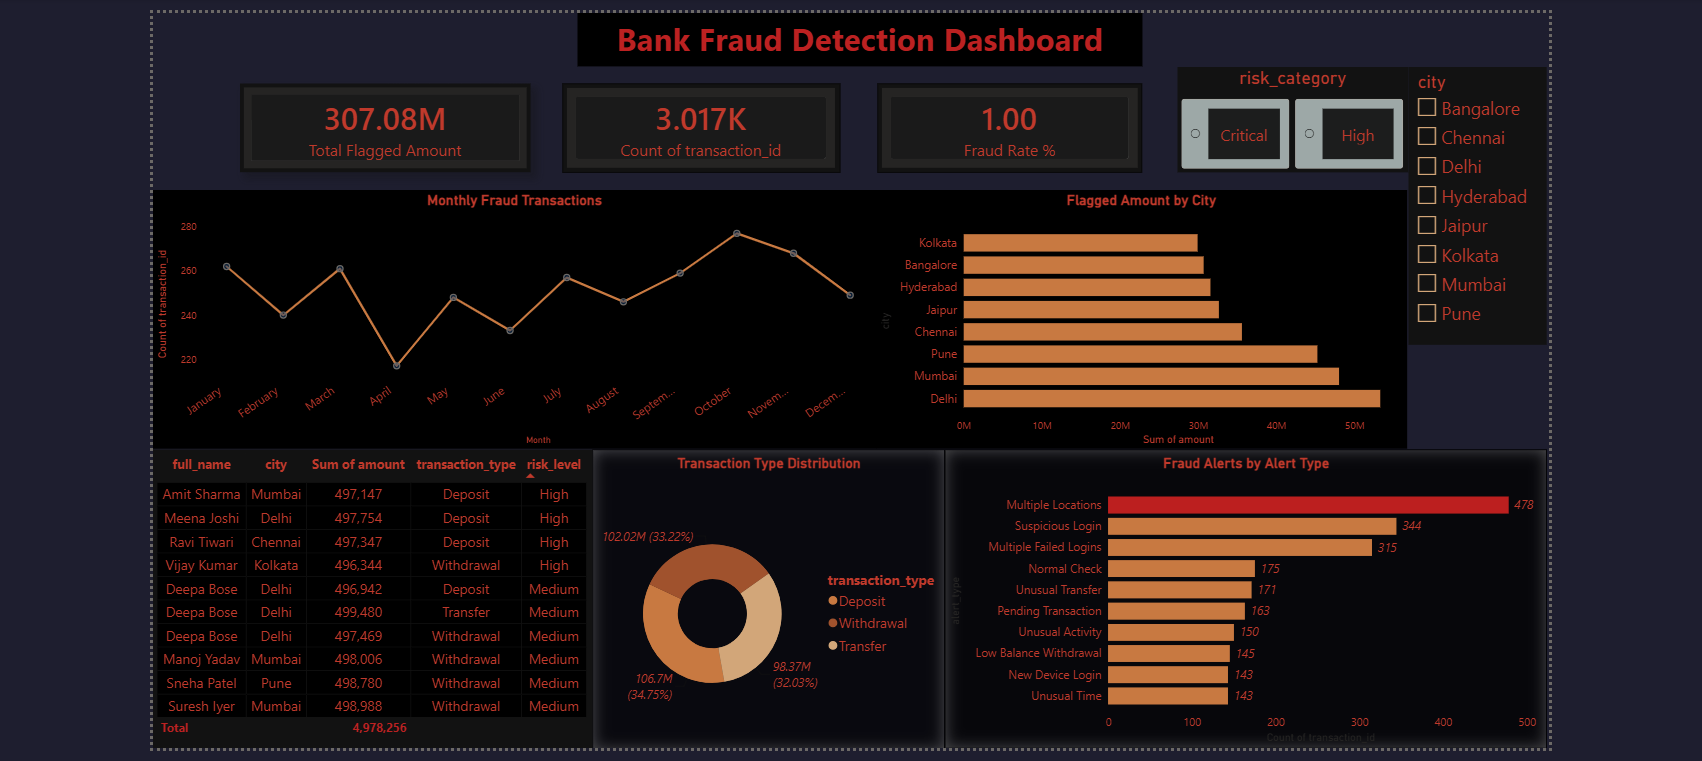

This screenshot's page, from the dashboard's own definition file:
{"tool":"powerbi","page":{"name":"Page 1","canvas":[1900,1000],"ordinal":0},"visuals":[{"type":"slicer","fields":{"Values":["vw_flagged_transactions.city"]},"box":[1707.7,72.9,187.8,377.8],"z":0},{"type":"clusteredBarChart","title":"Flagged Amount by City","fields":{"Y":["Sum(vw_flagged_transactions.amount)"],"Category":["vw_flagged_transactions.city"]},"box":[984.1,240.9,722.7,352.3],"z":1000},{"type":"donutChart","title":"Transaction Type Distribution","fields":{"Category":["vw_flagged_transactions.transaction_type"],"Y":["Sum(vw_flagged_transactions.amount)"]},"box":[597.7,593,479.1,409.3],"z":2000},{"type":"lineChart","title":"Monthly Fraud Transactions","fields":{"Category":["vw_flagged_transactions.transaction_date.Variation.Date Hierarchy.Year","vw_flagged_transactions.transaction_date.Variation.Date Hierarchy.Quarter","vw_flagged_transactions.transaction_date.Variation.Date Hierarchy.Month","vw_flagged_transactions.transaction_date.Variation.Date Hierarchy.Day"],"Y":["CountNonNull(vw_flagged_transactions.transaction_id)"]},"box":[0,240.9,984.1,352.3],"z":3000},{"type":"cardVisual","fields":{"Data":["vw_flagged_transactions.Total Flagged Amount"]},"box":[118.2,95.5,395.5,120.5],"z":4000},{"type":"cardVisual","fields":{"Data":["CountNonNull(vw_flagged_transactions.transaction_id)"]},"box":[556.8,95.5,377.8,121.5],"z":5000},{"type":"advancedSlicerVisual","fields":{"Values":["vw_high_risk_customers.risk_category"]},"box":[1394,72.9,313.7,143.6],"z":6000},{"type":"clusteredBarChart","title":"Fraud Alerts by Alert Type","fields":{"Category":["vw_flagged_transactions.alert_type"],"Y":["CountNonNull(vw_flagged_transactions.transaction_id)"]},"box":[1076.7,593,818.6,407],"z":7000},{"type":"tableEx","fields":{"Values":["vw_flagged_transactions.full_name","vw_flagged_transactions.city","Sum(vw_flagged_transactions.amount)","vw_flagged_transactions.transaction_type","vw_flagged_transactions.risk_level"]},"box":[0,593,597.7,407],"z":8000},{"type":"cardVisual","fields":{"Data":["transactions.Fraud Rate %"]},"box":[985.3,95,360.1,121.5],"z":9000},{"type":"textbox","box":[576.6,0,768.8,72.9],"z":10000}]}

Visuals, with their boxes on the page's 1900x1000 design canvas (x1, y1, x2, y2). These are canvas units, not pixel positions in the 1702x761 screenshot, which may show the page scaled, cropped or inside an application window:
slicer - vw_flagged_transactions.city: {"left": 1708, "top": 73, "right": 1896, "bottom": 451}
"Flagged Amount by City" clusteredBarChart: {"left": 984, "top": 241, "right": 1707, "bottom": 593}
"Transaction Type Distribution" donutChart: {"left": 598, "top": 593, "right": 1077, "bottom": 1002}
"Monthly Fraud Transactions" lineChart: {"left": 0, "top": 241, "right": 984, "bottom": 593}
cardVisual - vw_flagged_transactions.Total Flagged Amount: {"left": 118, "top": 96, "right": 514, "bottom": 216}
cardVisual - CountNonNull(vw_flagged_transactions.transaction_id): {"left": 557, "top": 96, "right": 935, "bottom": 217}
advancedSlicerVisual - vw_high_risk_customers.risk_category: {"left": 1394, "top": 73, "right": 1708, "bottom": 216}
"Fraud Alerts by Alert Type" clusteredBarChart: {"left": 1077, "top": 593, "right": 1895, "bottom": 1000}
tableEx - vw_flagged_transactions.full_name x vw_flagged_transactions.city: {"left": 0, "top": 593, "right": 598, "bottom": 1000}
cardVisual - transactions.Fraud Rate %: {"left": 985, "top": 95, "right": 1345, "bottom": 216}
textbox: {"left": 577, "top": 0, "right": 1345, "bottom": 73}
